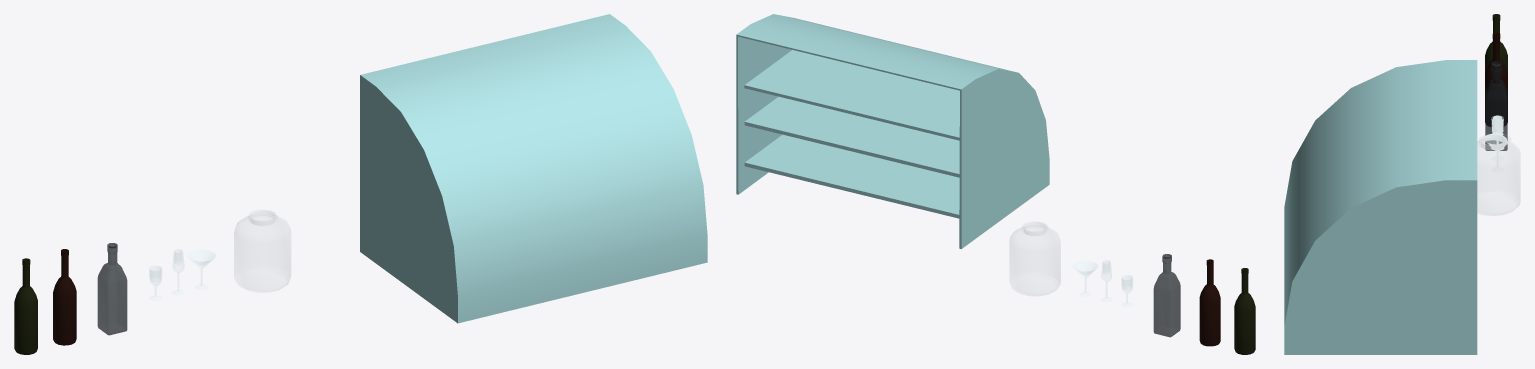
The model's file is Glass_props (1).fbx.
3 renders of one model, left to right at view 1: azimuth 30°, elevation 25°; view 2: azimuth 150°, elevation 25°; view 3: azimuth 270°, elevation 25°, orthographic. The views are drawn at different scales.
Parts seen in each view (by area): view 1: Showcase, Jar, Bottle, Bottle.002, Bottle.001; view 2: Showcase, Jar, Bottle, Bottle.002, Bottle.001; view 3: Showcase, Jar, Bottle.001, Bottle, Bottle.002.
Part boxes in pixels (x1=…): Showcase: x1=360, y1=14, x2=707, y2=323; Jar: x1=234, y1=210, x2=290, y2=291; Bottle: x1=97, y1=243, x2=127, y2=335; Bottle.002: x1=14, y1=258, x2=37, y2=354; Bottle.001: x1=53, y1=249, x2=76, y2=345; Showcase: x1=736, y1=14, x2=1049, y2=248; Jar: x1=1010, y1=222, x2=1060, y2=295; Bottle: x1=1153, y1=254, x2=1180, y2=337; Bottle.002: x1=1234, y1=268, x2=1255, y2=354; Bottle.001: x1=1199, y1=259, x2=1220, y2=346; Showcase: x1=1284, y1=60, x2=1477, y2=354; Jar: x1=1478, y1=134, x2=1519, y2=215; Bottle.001: x1=1485, y1=32, x2=1507, y2=126; Bottle: x1=1485, y1=61, x2=1507, y2=150; Bottle.002: x1=1485, y1=14, x2=1507, y2=73.
Bounding box in the file's own units: 690 × 1945 × 650.
